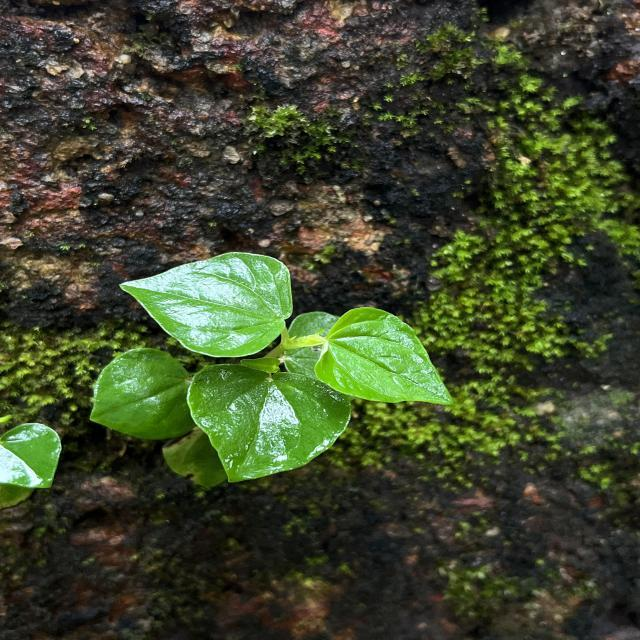Peperomia pellucida: (185, 362, 354, 484), (117, 250, 296, 359), (311, 304, 458, 410)
